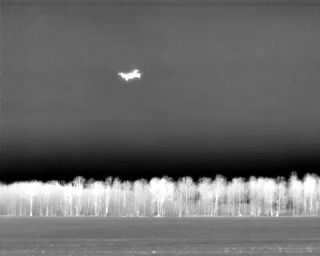DRONE: (115, 65, 146, 86)
